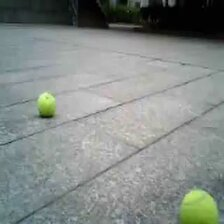tennis: (178, 189, 219, 224), (38, 91, 55, 115)
